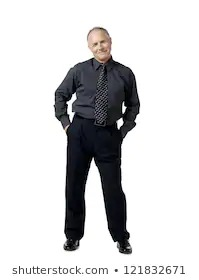F_dress pants: (64, 116, 130, 241)
F_shirt: (48, 56, 143, 132)
F_tie: (94, 63, 109, 128)
